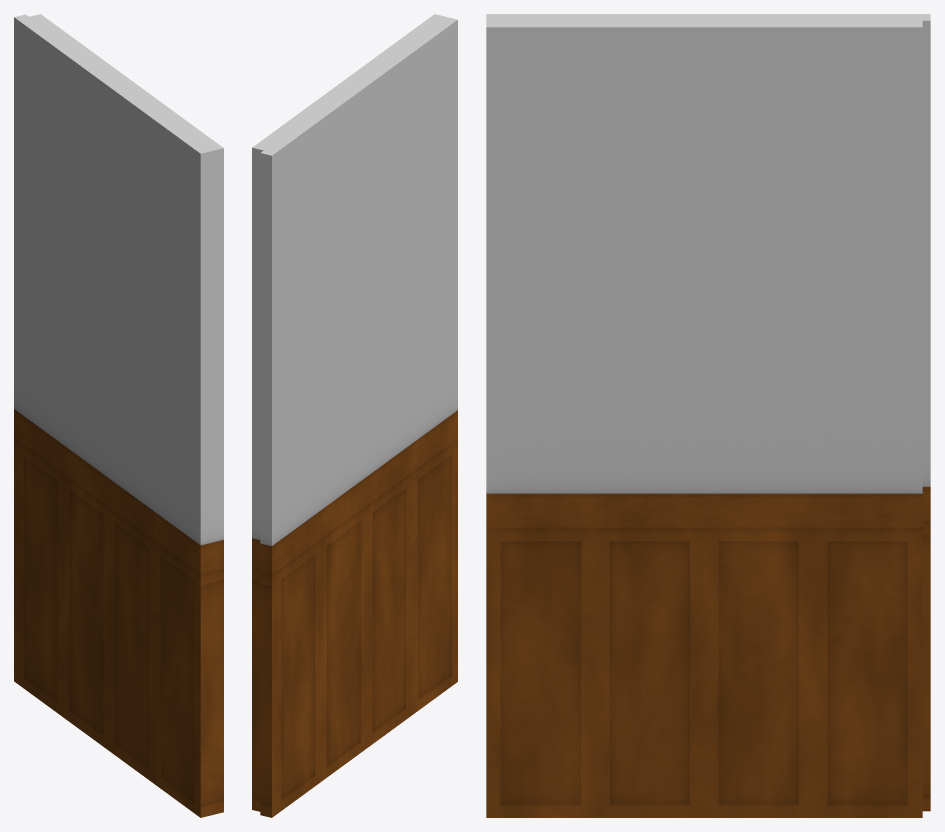
File: wall.glb
3 views of the same model, side by side, from view 1: azimuth 30°, elevation 25°; view 2: azimuth 150°, elevation 25°; view 3: azimuth 270°, elevation 25° (orthographic). The views are drawn at different scales.
Parts seen in each view (by area): view 1: wall; view 2: wall; view 3: wall.
Boxes of the visible parts, bbox=[...] form: wall: bbox=[14, 14, 223, 817]; wall: bbox=[252, 14, 457, 817]; wall: bbox=[486, 14, 930, 817].
Bounding box in the file's own units: 0.0731 × 2 × 1.02.
1 material, 1 textured.
